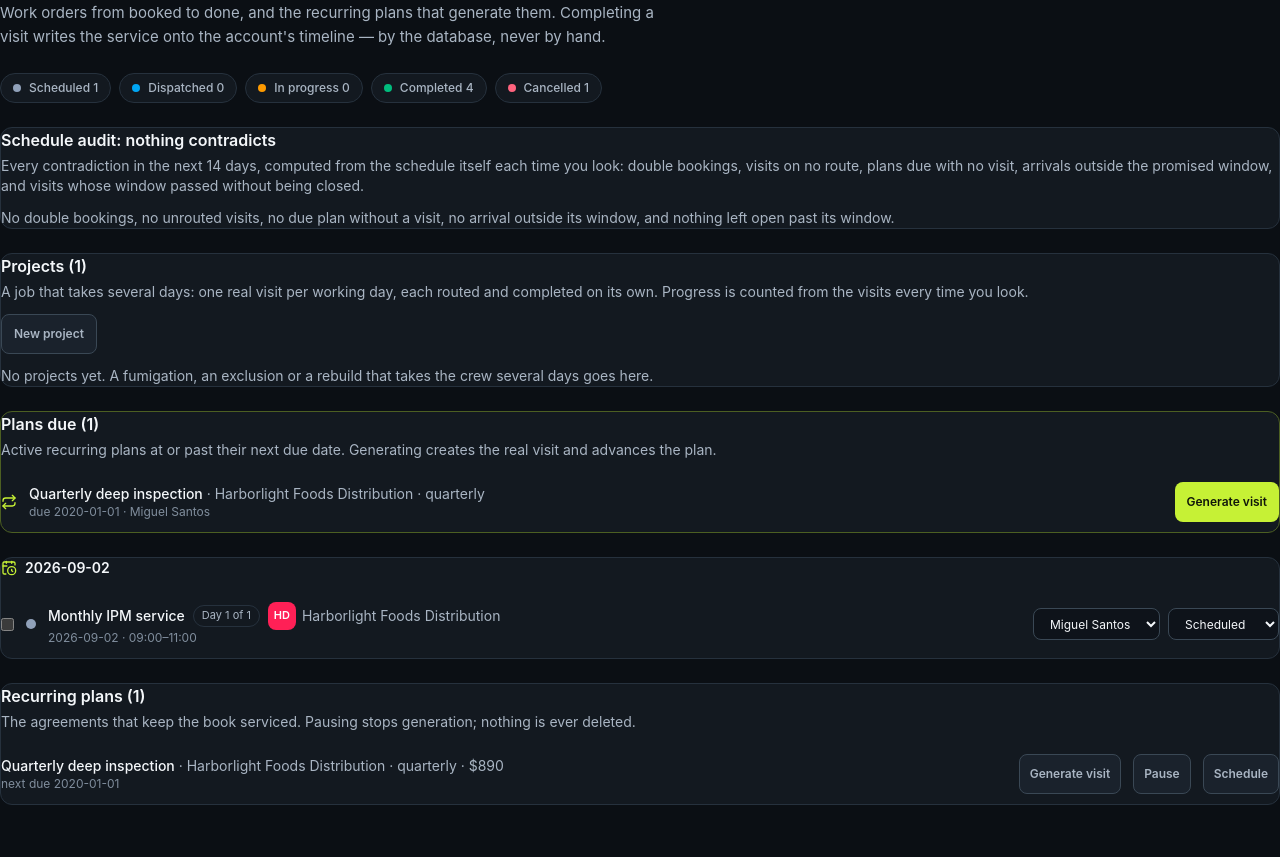
Test: sequencing a plan onto named dates › says visits and bills separately once they disagree
The image size is (1280, 857).
Click the button "Schedule".
click(1241, 774)  # box [1203,754,1279,794]
(page scrolled)
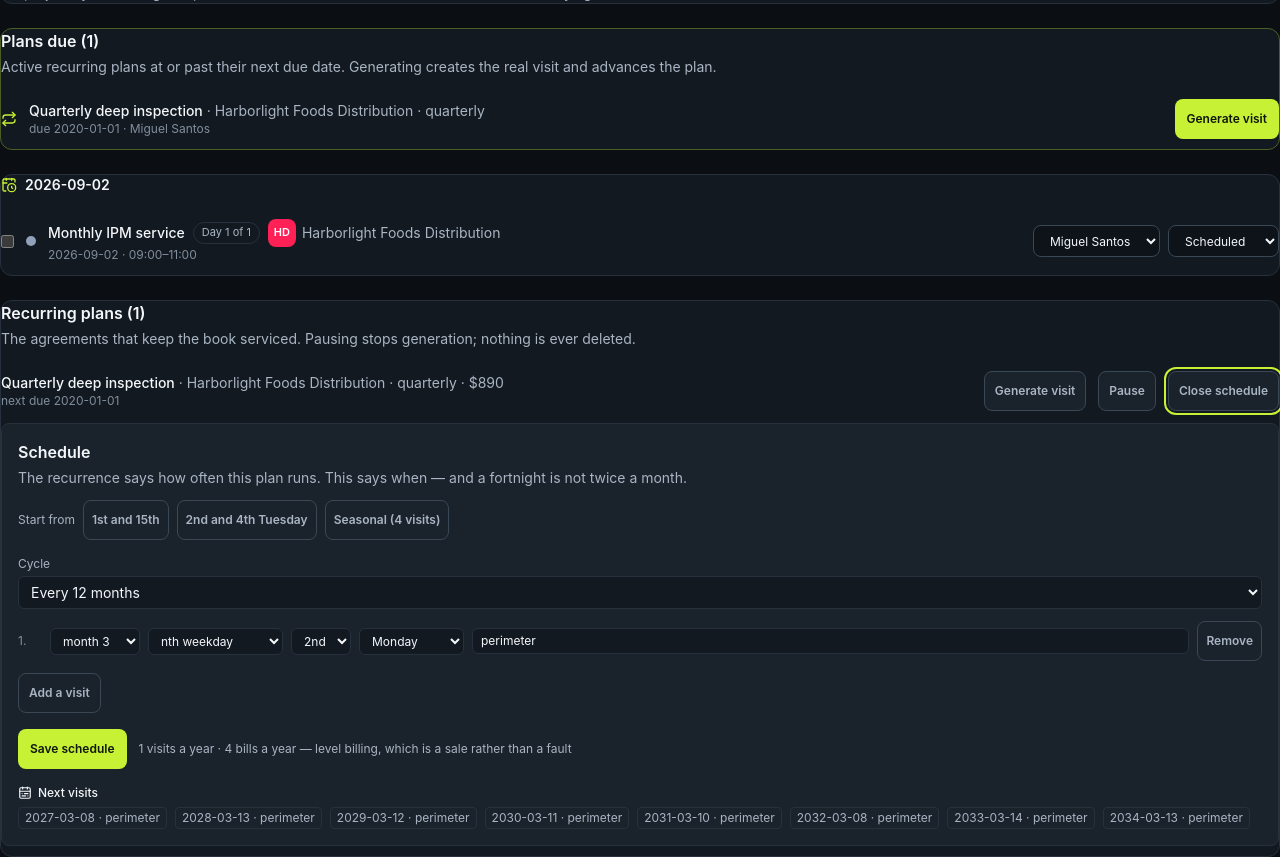
Expected: the text with test id "plan-cadence" shows "1 visits a year", [138,741,572,757]
Expected: the text with test id "plan-cadence" shows "4 bills a year", [138,741,572,757]
Expected: the text with test id "plan-cadence" shows "level billing", [296,741,572,756]
